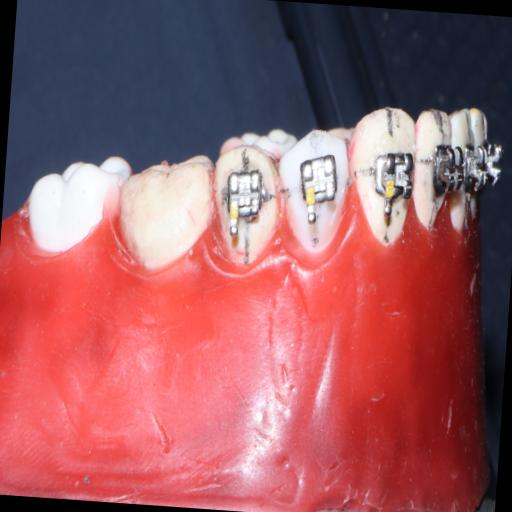correct_brace: (272, 124, 356, 256)
incorrect_brace: (296, 150, 342, 208)
